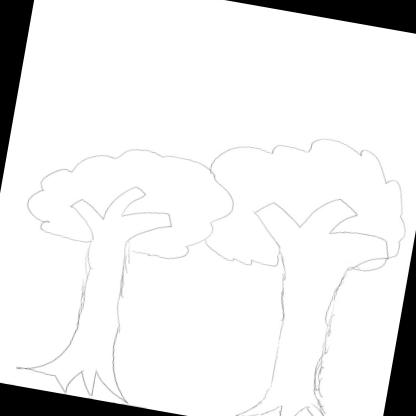branch_cut: (247, 183, 398, 284), (65, 177, 176, 247)
crown_cloud: (195, 119, 416, 290), (22, 131, 240, 267)
root_only: (15, 354, 134, 404), (232, 390, 340, 416)
trunk_straight: (258, 282, 344, 402), (69, 248, 131, 352)
